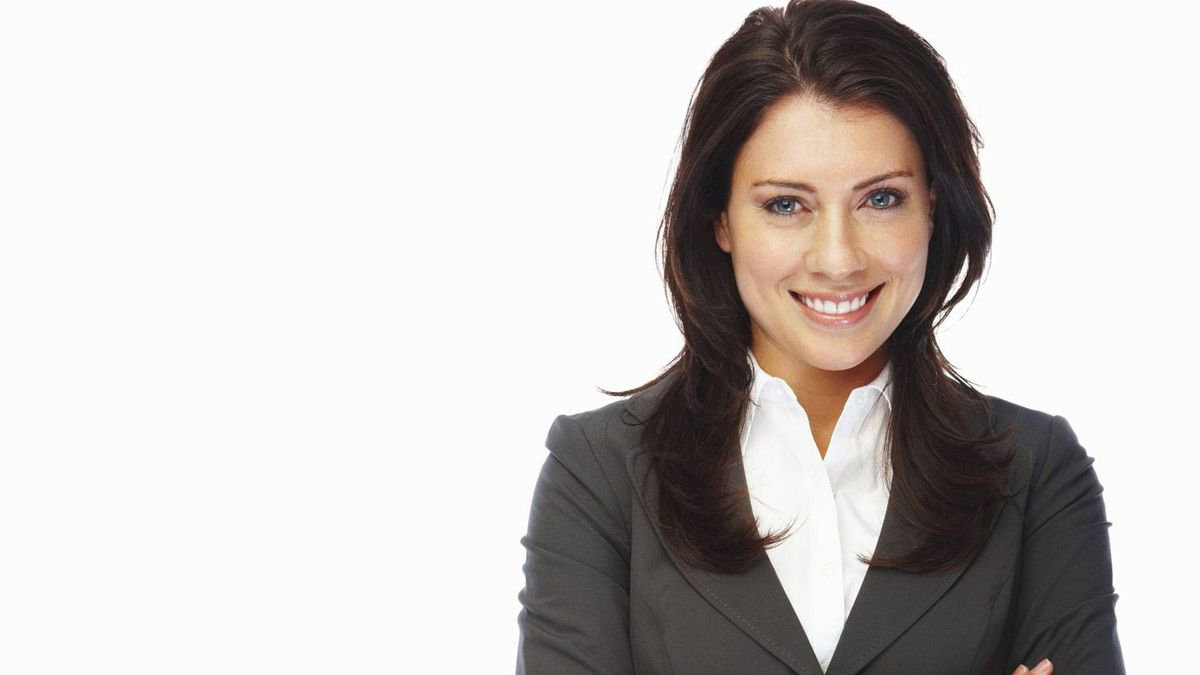noMask: (669, 11, 974, 382)
